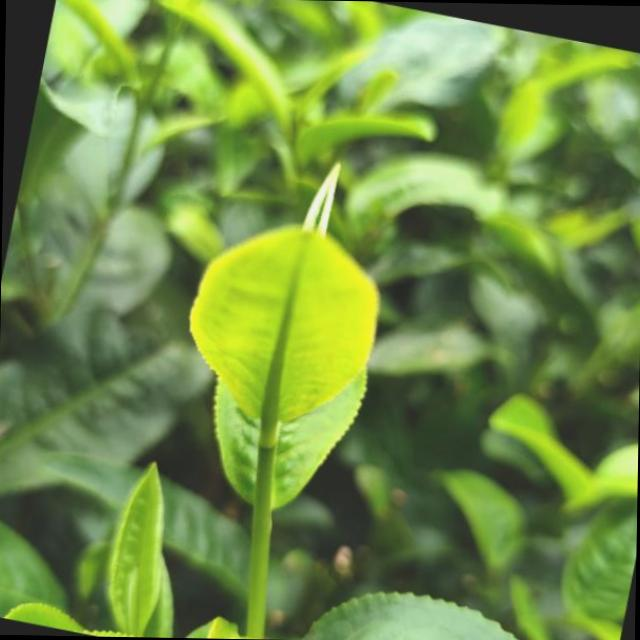Stem: (258, 445, 275, 480)
